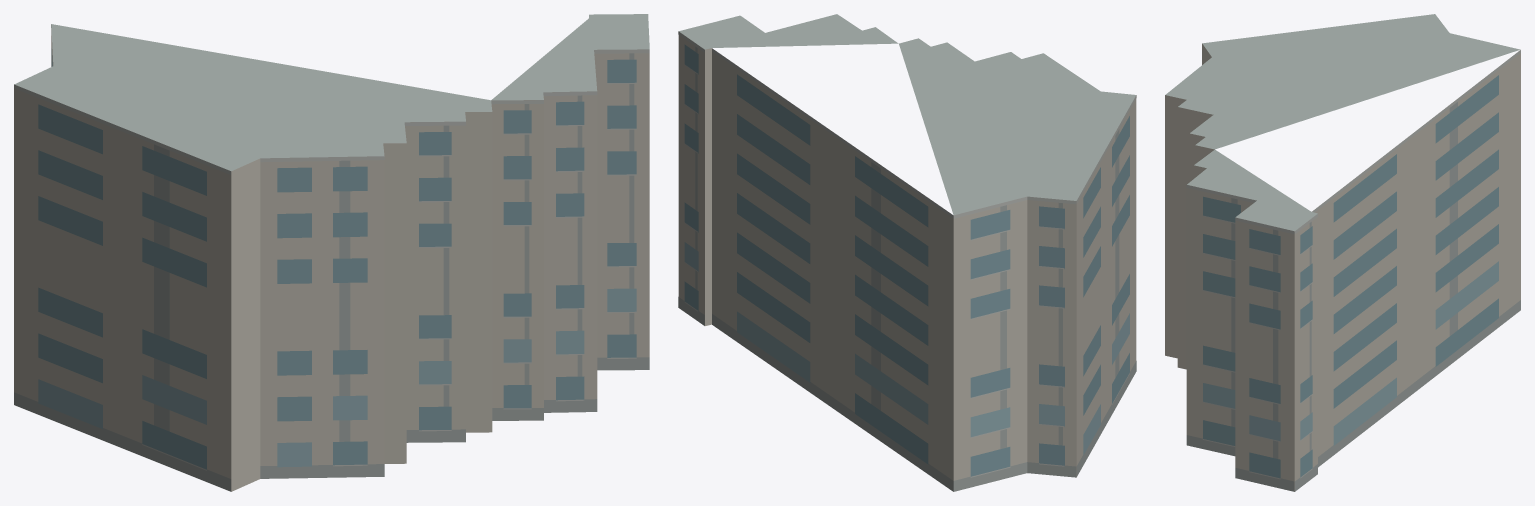
Rendered from survey-upis-32805344.glb.
3 views of the same model, side by side, from view 1: azimuth 30°, elevation 25°; view 2: azimuth 150°, elevation 25°; view 3: azimuth 270°, elevation 25° (orthographic). The views are drawn at different scales.
Parts seen in each view (by area): view 1: survey-upis-32805344.tmp; view 2: survey-upis-32805344.tmp; view 3: survey-upis-32805344.tmp.
Boxes of the visible parts, x1,y1,x2,y2 form: survey-upis-32805344.tmp: [14, 14, 649, 491]; survey-upis-32805344.tmp: [678, 14, 1136, 491]; survey-upis-32805344.tmp: [1165, 14, 1520, 491].
Size of the model in its own units: 35.77 by 20 by 24.75.
